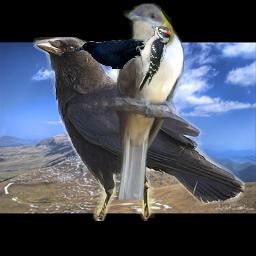Crow: (33, 37, 245, 221), (73, 39, 154, 69)
Cuckoo: (112, 3, 184, 200)
Woodpecker: (136, 24, 172, 94)
